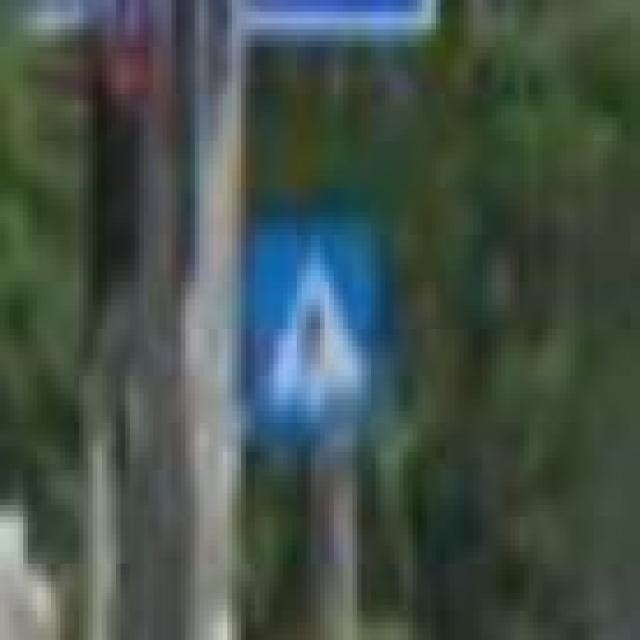traffic sign: (246, 223, 390, 446)
